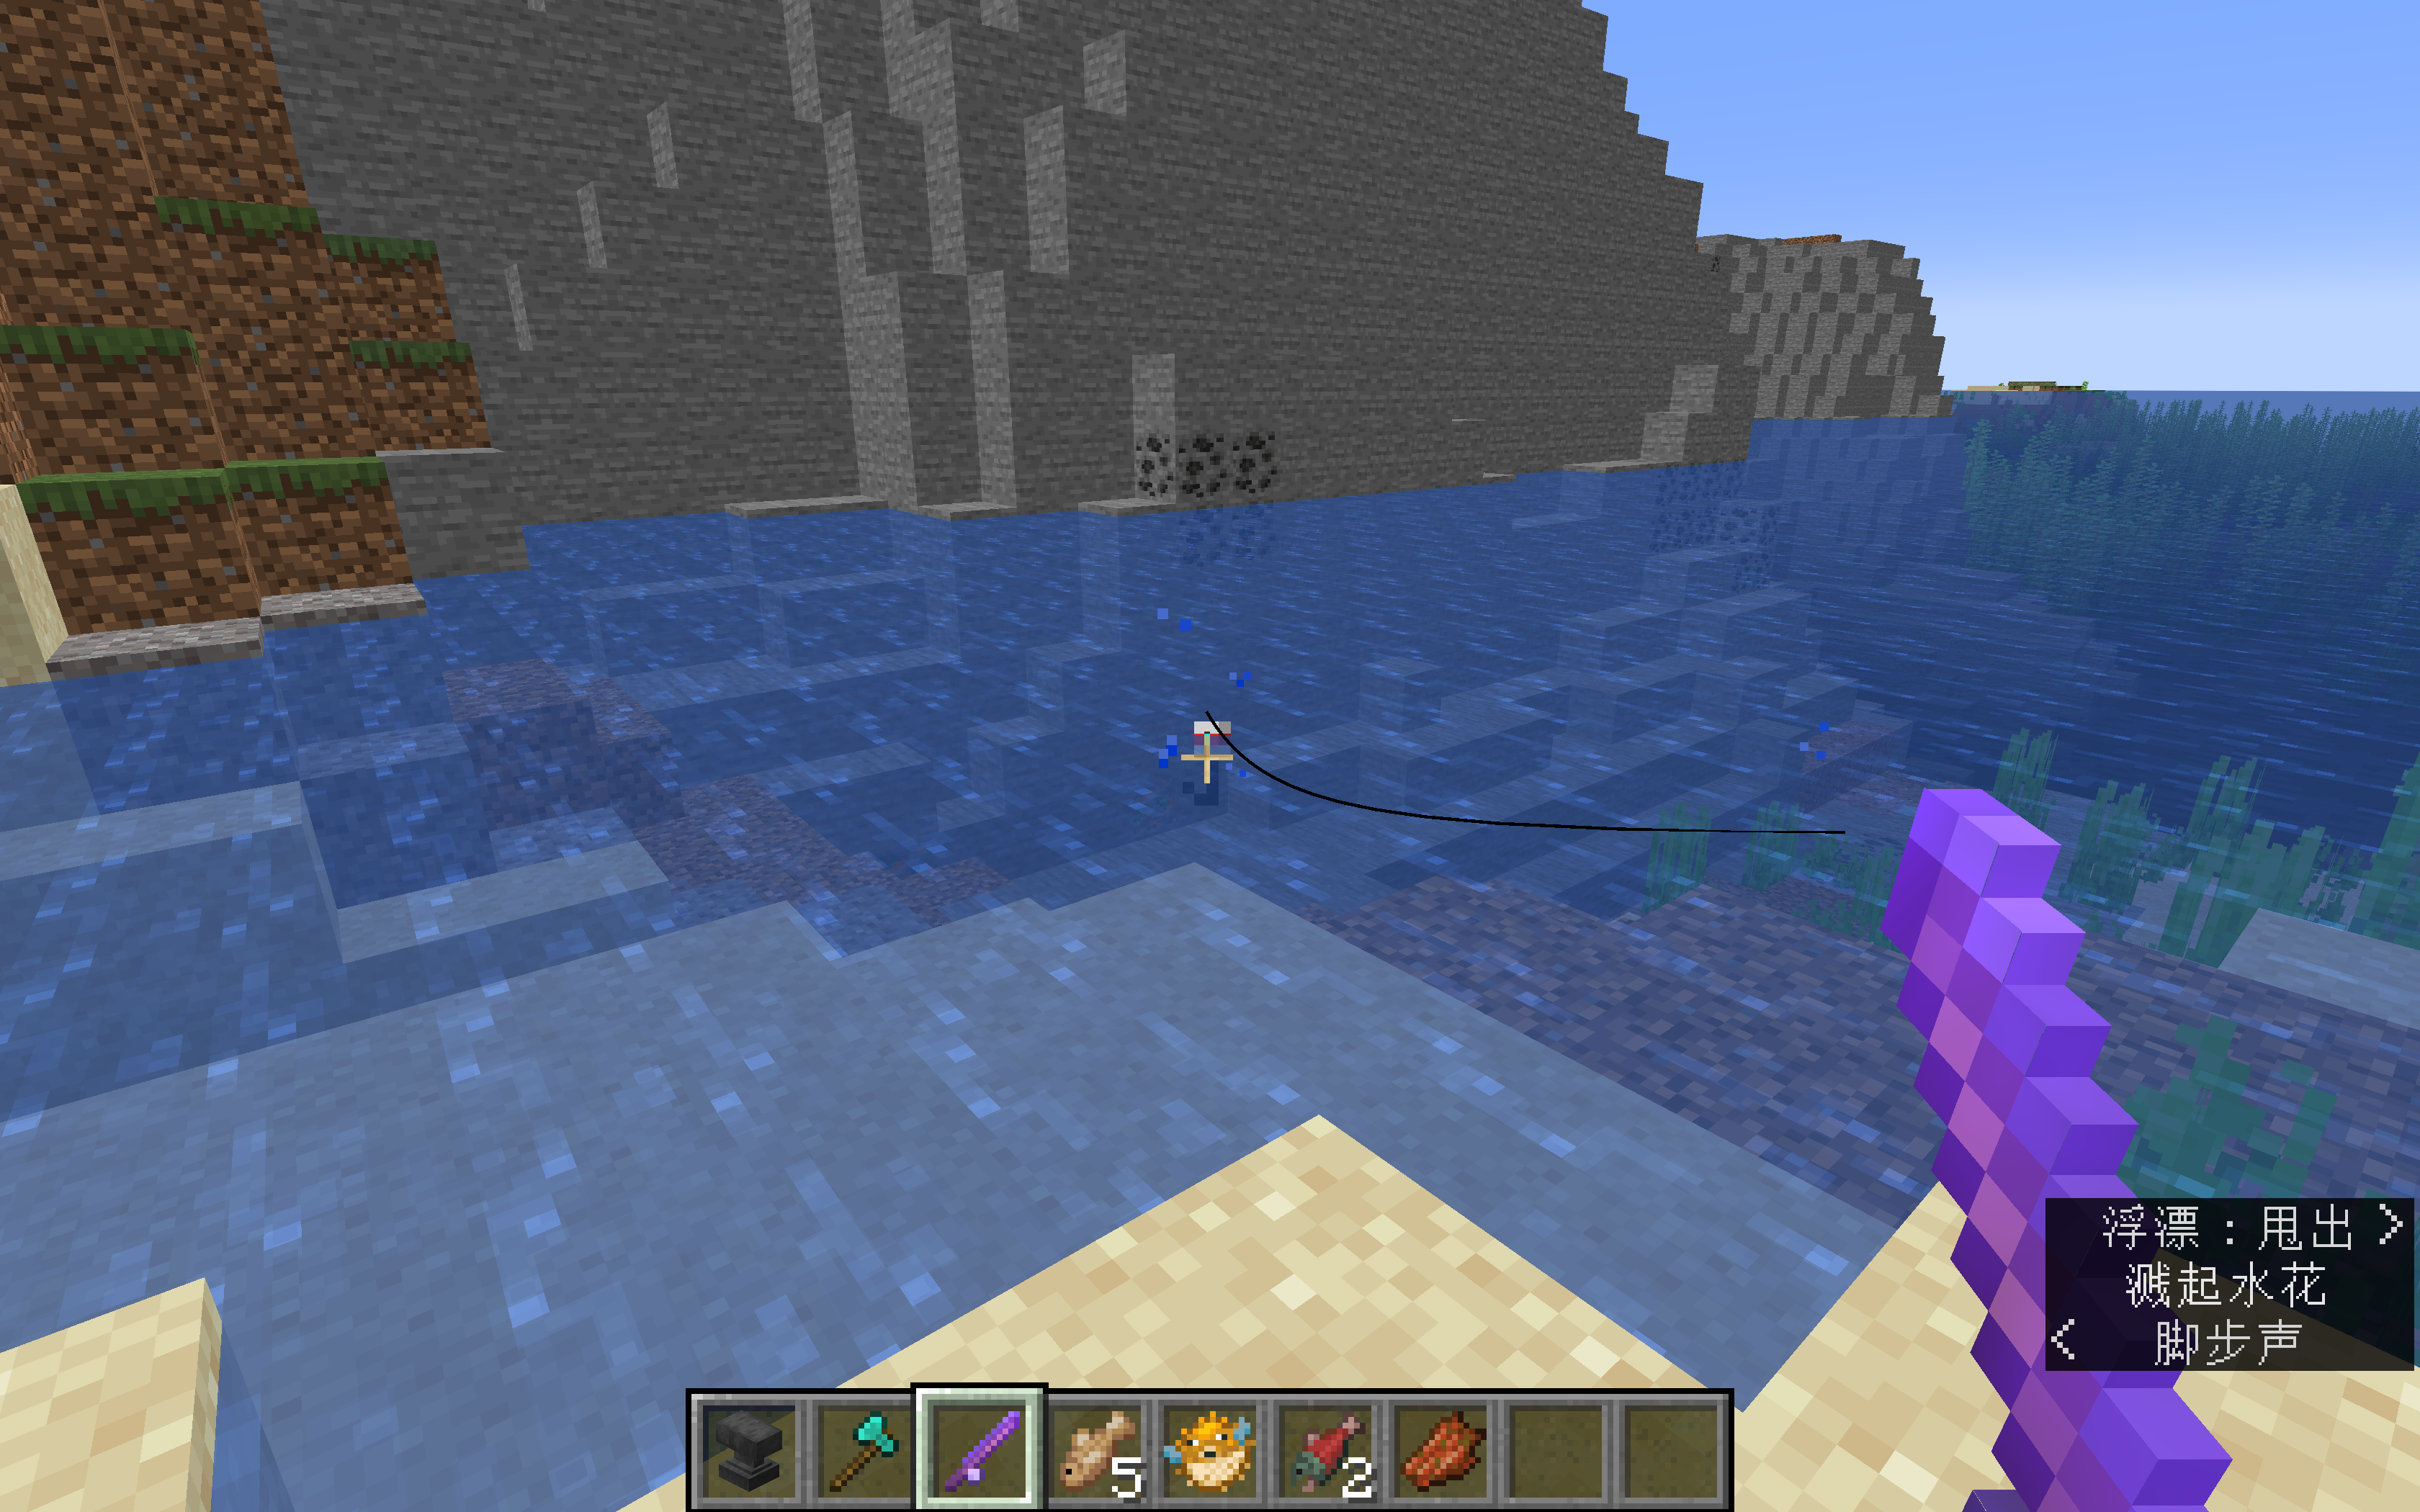inf: (2045, 1198, 2413, 1371)
